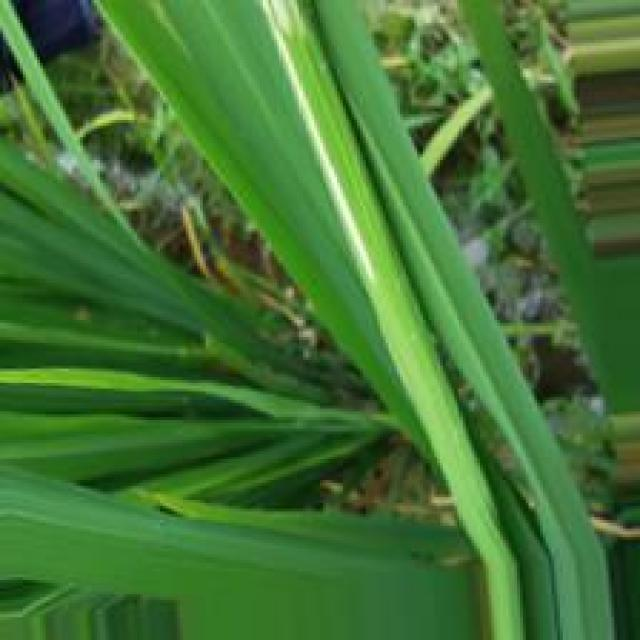Rice_Hispa: (260, 0, 384, 296)
